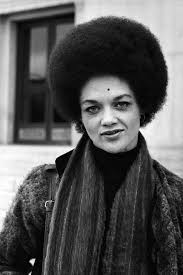black_female: (49, 16, 179, 160)
